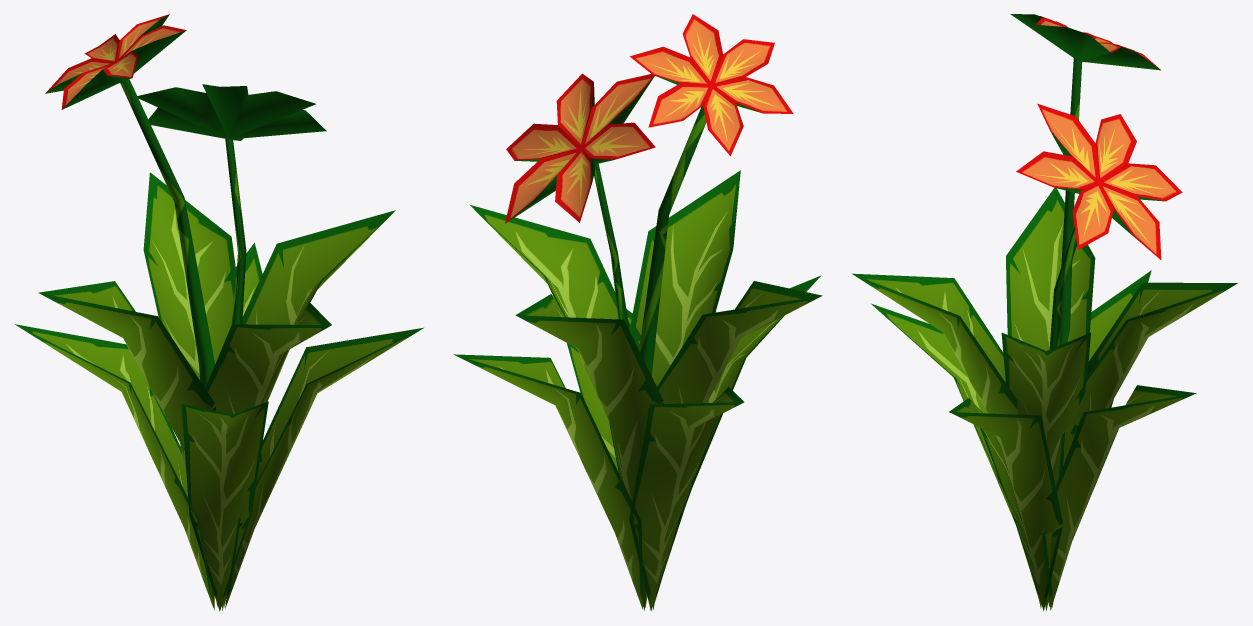
The model's file is Toon_Veg_Flowers_01.fbx.
The picture shows the model from 3 angles, left to right: view 1: azimuth 30°, elevation 25°; view 2: azimuth 150°, elevation 25°; view 3: azimuth 270°, elevation 25°; orthographic projection. The views are drawn at different scales.
Parts seen in each view (by area): view 1: Toon_Veg_Flowers_01; view 2: Toon_Veg_Flowers_01; view 3: Toon_Veg_Flowers_01.
Part boxes in pixels (x1,y1,x2,y2): Toon_Veg_Flowers_01: (15,14,423,611); Toon_Veg_Flowers_01: (453,14,822,611); Toon_Veg_Flowers_01: (852,14,1237,611).
Bounding box in the file's own units: 3.01 × 4.83 × 2.99.
